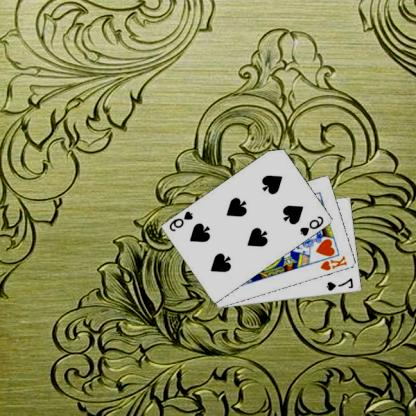6S: (300, 213, 328, 238), (168, 208, 196, 233)
7S: (325, 276, 357, 292)
KH: (320, 253, 350, 272)
